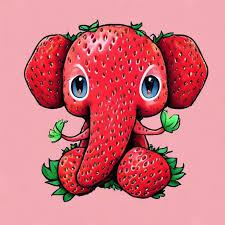strawberry-elephant: (29, 23, 211, 196)
